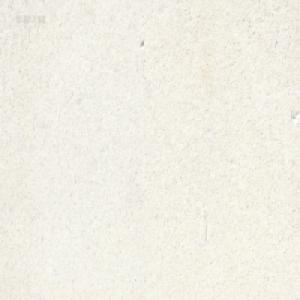Wrench: (185, 0, 192, 5)
